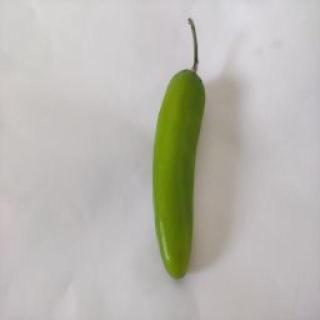Cabai Hijau: (146, 12, 214, 286)
